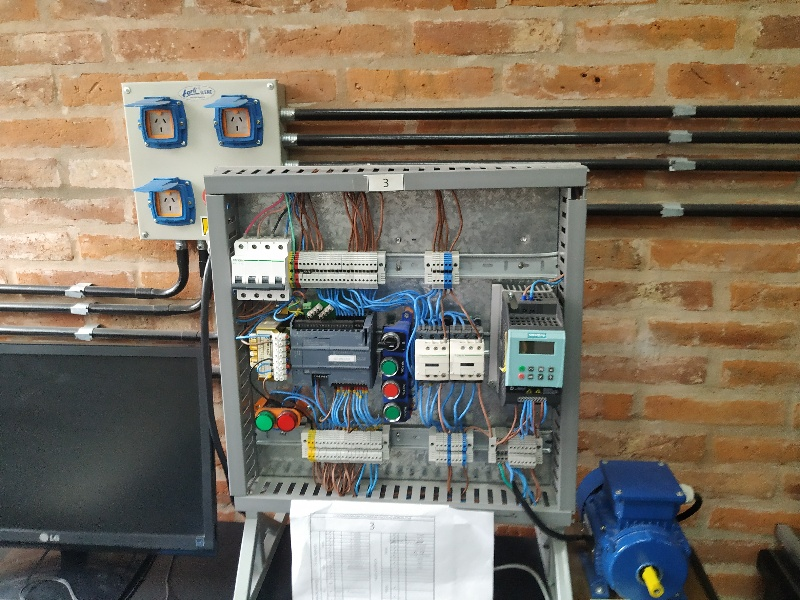Tablero 3: (214, 182, 572, 514)
